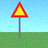sign: (10, 1, 28, 38)
